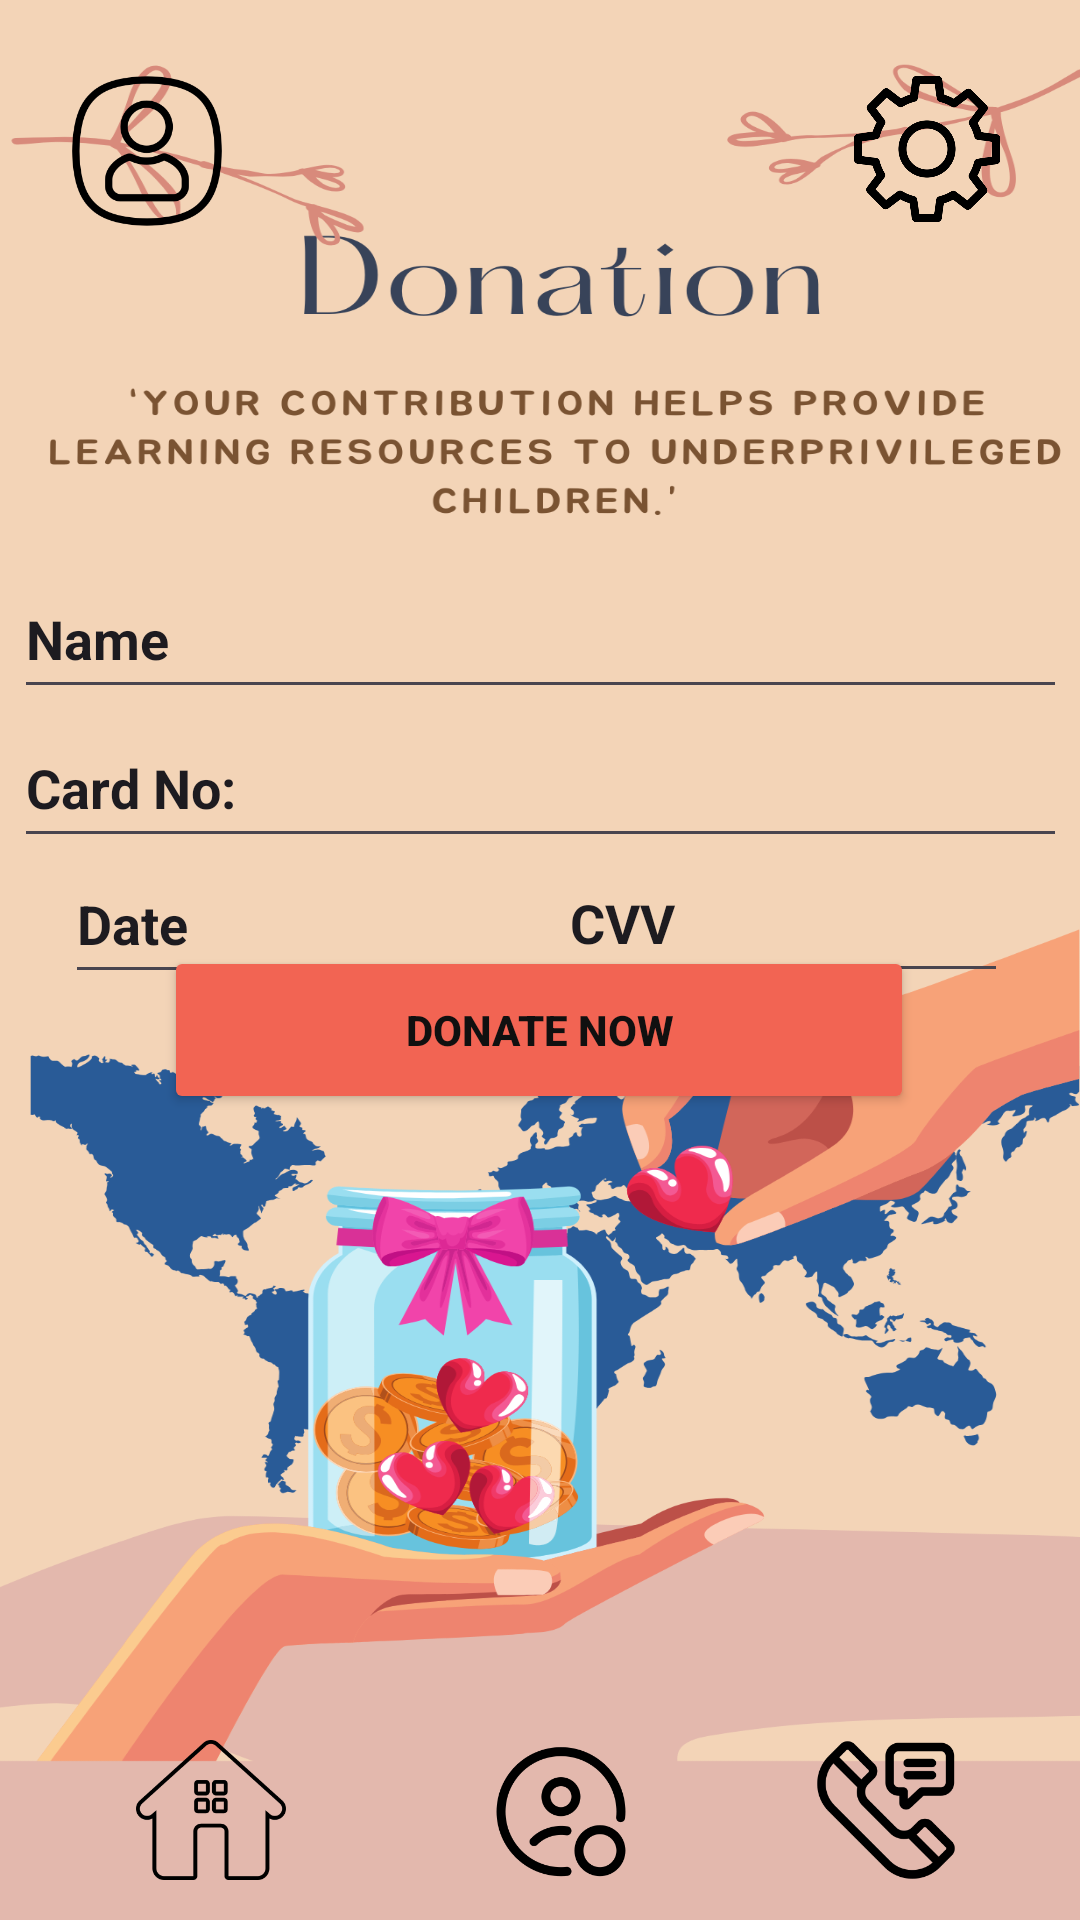

Named icons in this screenshot (1080×1920) and their centers, (x,y):
acc: (147,151)
homee: (211,1807)
setting: (927,148)
